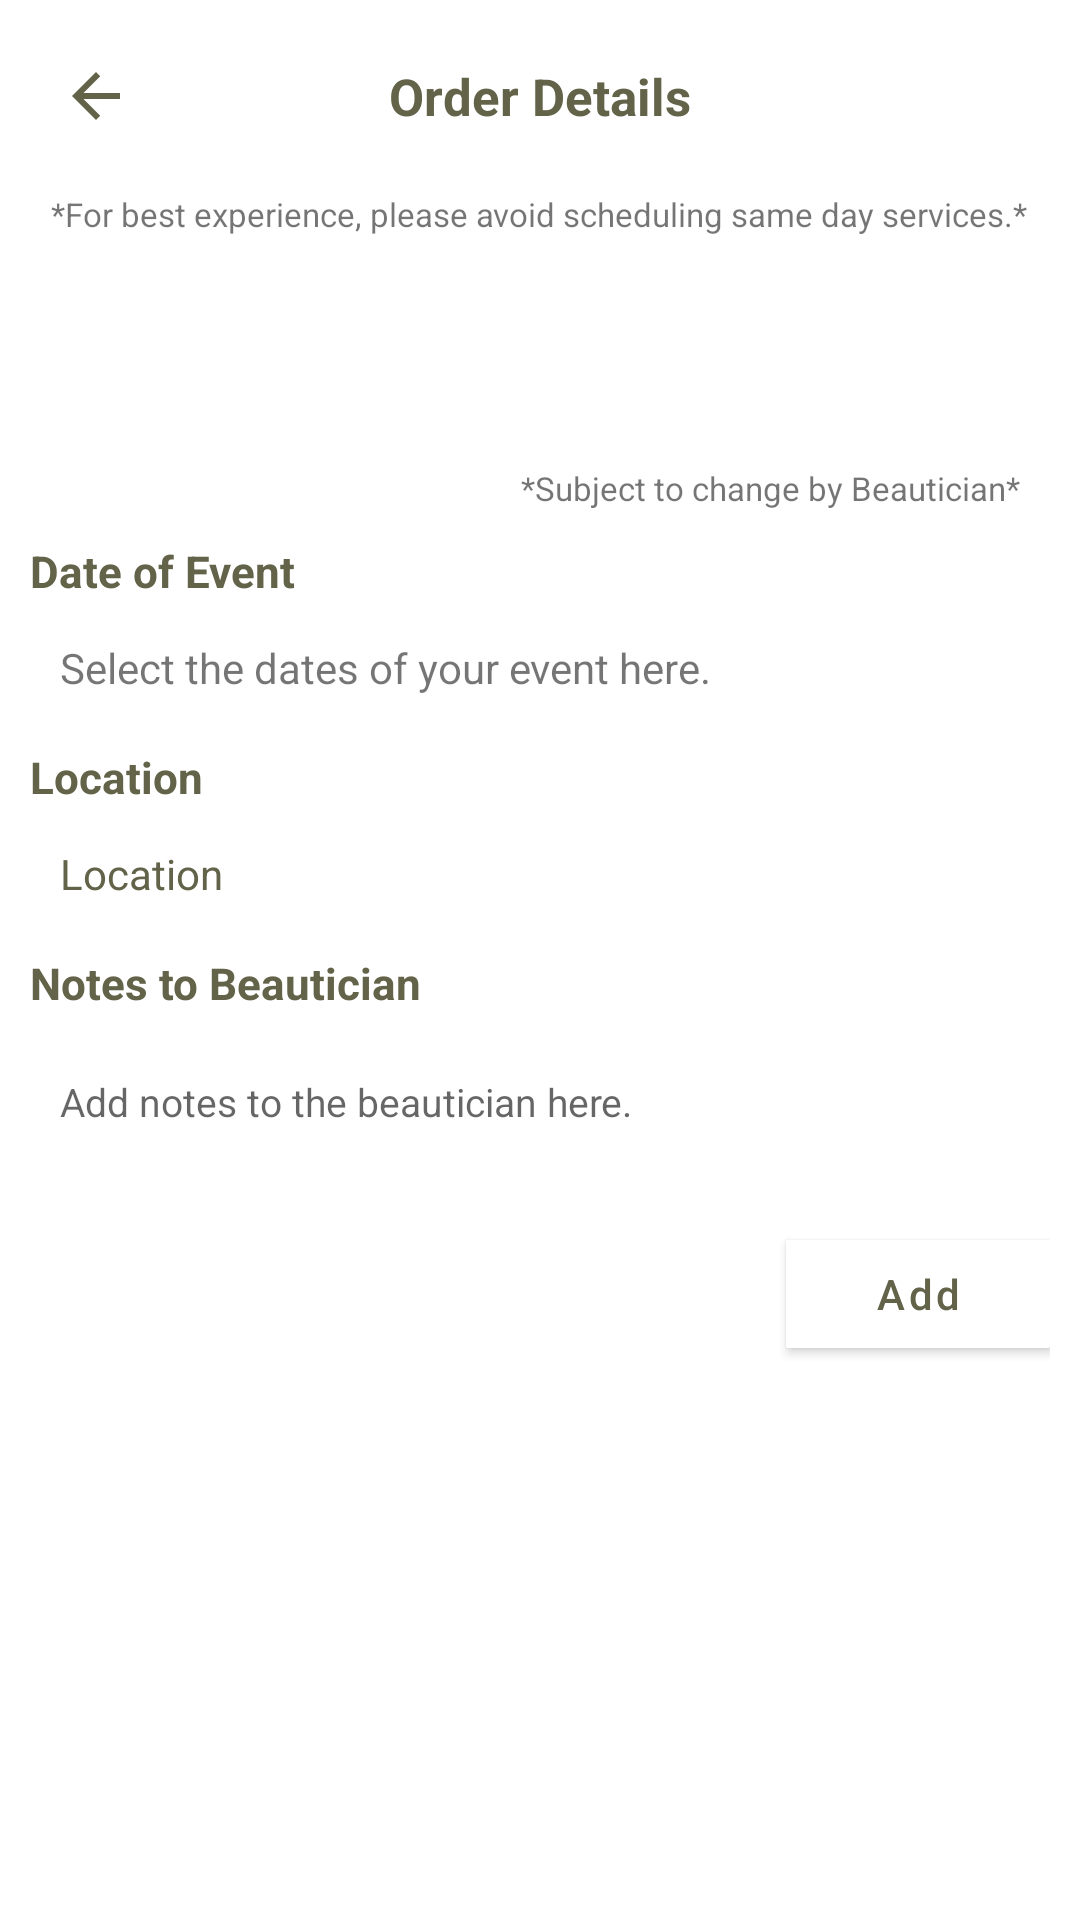

Screen size 1080w x 1920h. Icon name, then its box in pixels as (x1, y1, x2, y2):
Back Arrow: (72, 72, 120, 120)
